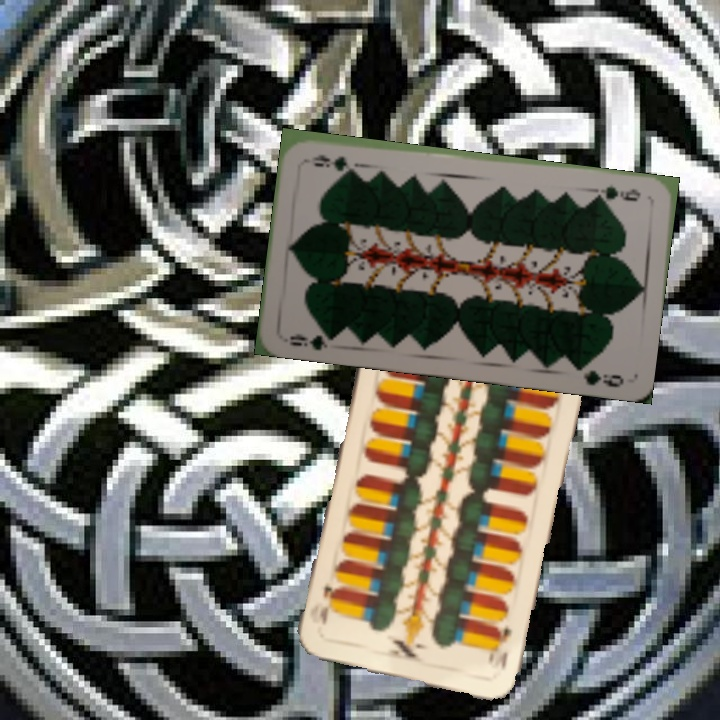E10: (494, 622, 514, 673)
G9: (285, 326, 341, 353), (591, 181, 643, 204)
